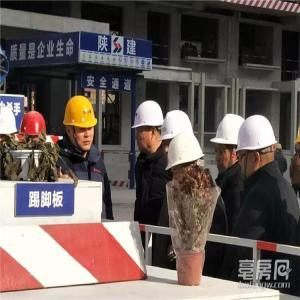red: (21, 111, 47, 151)
white: (238, 115, 278, 176), (214, 115, 242, 172), (135, 98, 162, 152), (170, 137, 201, 183), (163, 111, 189, 157)
yellow: (64, 94, 96, 154)
